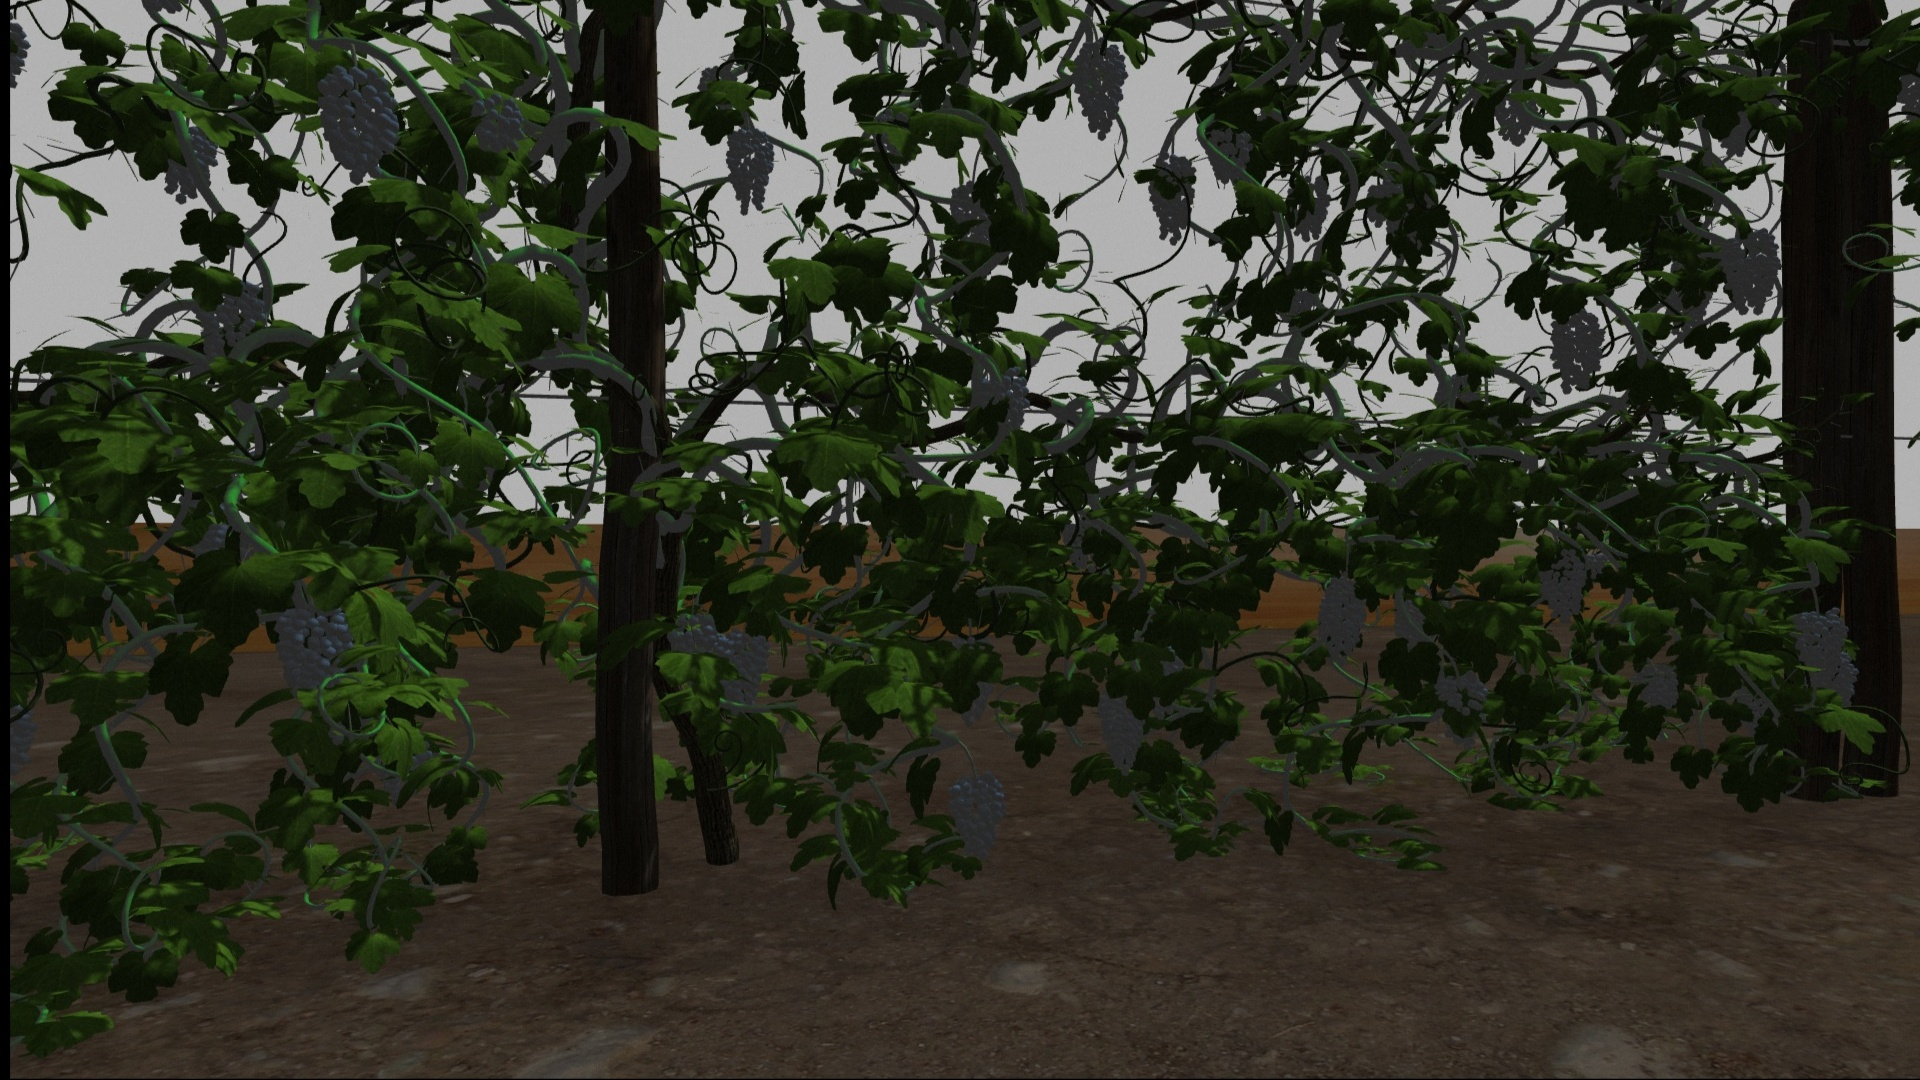grape: (319, 58, 400, 185), (273, 603, 353, 700), (191, 276, 265, 357), (1720, 225, 1783, 315), (1072, 41, 1130, 138), (945, 771, 1007, 858), (1091, 683, 1147, 775), (1143, 156, 1197, 247), (1549, 306, 1604, 394), (1313, 575, 1369, 659), (723, 125, 774, 215), (161, 123, 218, 203), (1791, 605, 1847, 680), (713, 633, 769, 709), (976, 364, 1033, 436), (1539, 553, 1589, 625), (471, 94, 524, 157), (1204, 125, 1253, 185), (1813, 657, 1861, 709), (667, 613, 719, 659), (1435, 671, 1487, 715), (1633, 667, 1679, 709)
